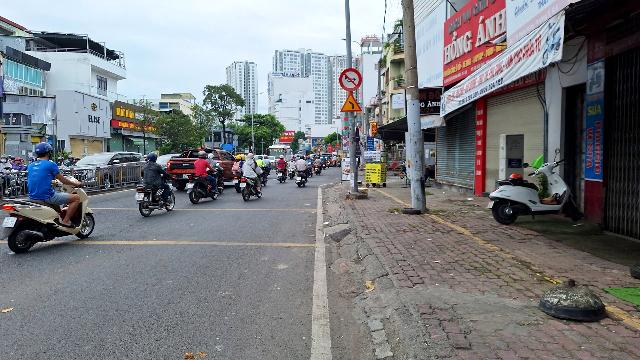cam-bop-coi: (339, 68, 362, 92)
cho-ngoat-nguy-hiem-ben-trai: (340, 92, 362, 112)
